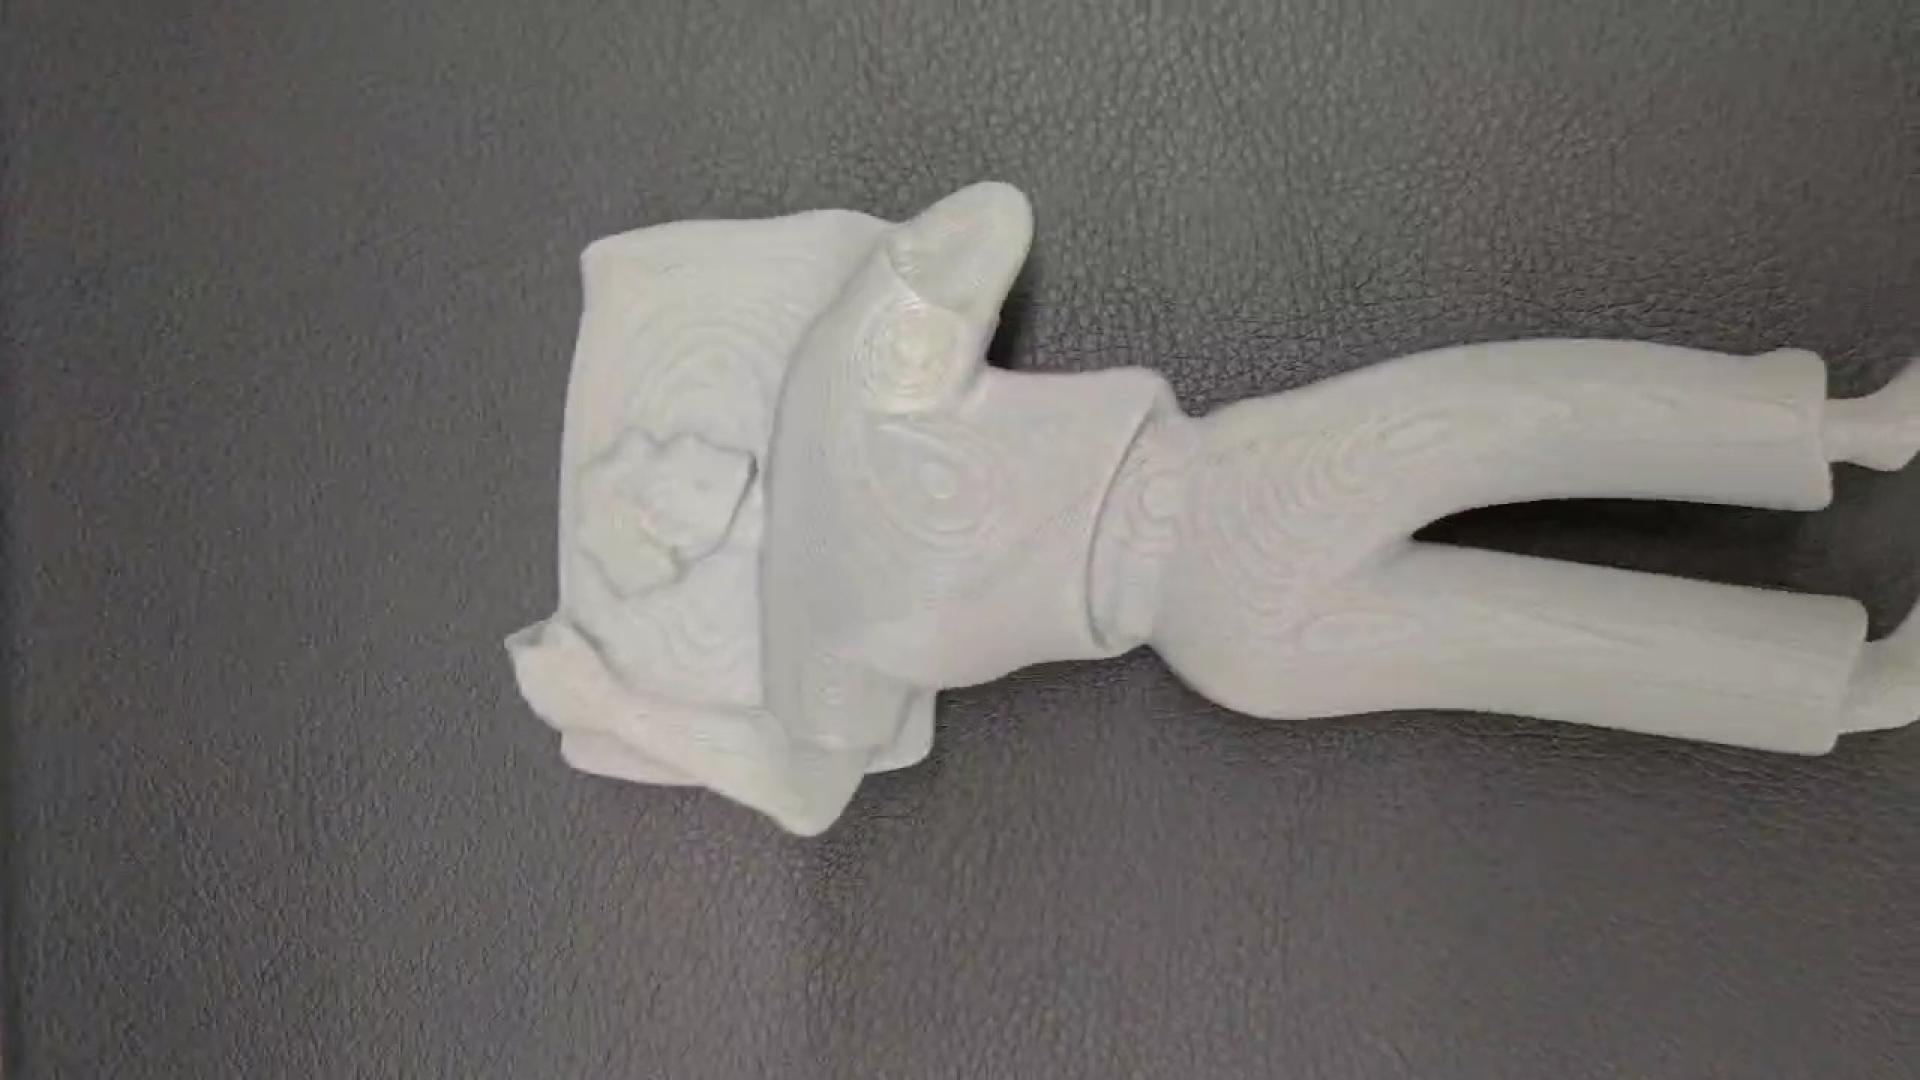Bad-style: (501, 177, 1920, 845)
